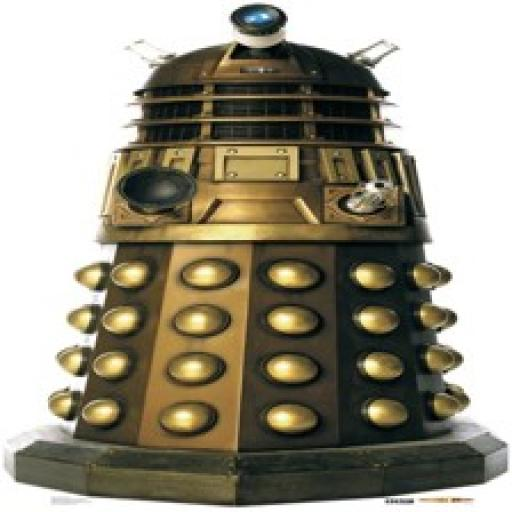dalek: (14, 4, 510, 508)
